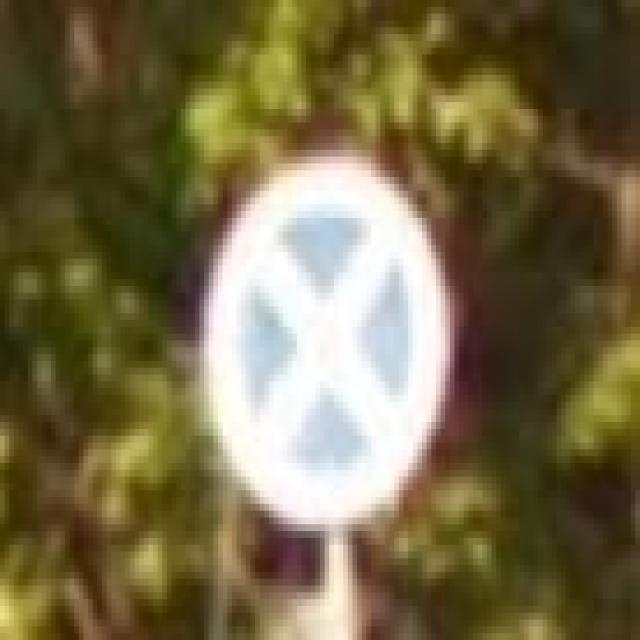traffic_sign: (204, 156, 455, 538)
